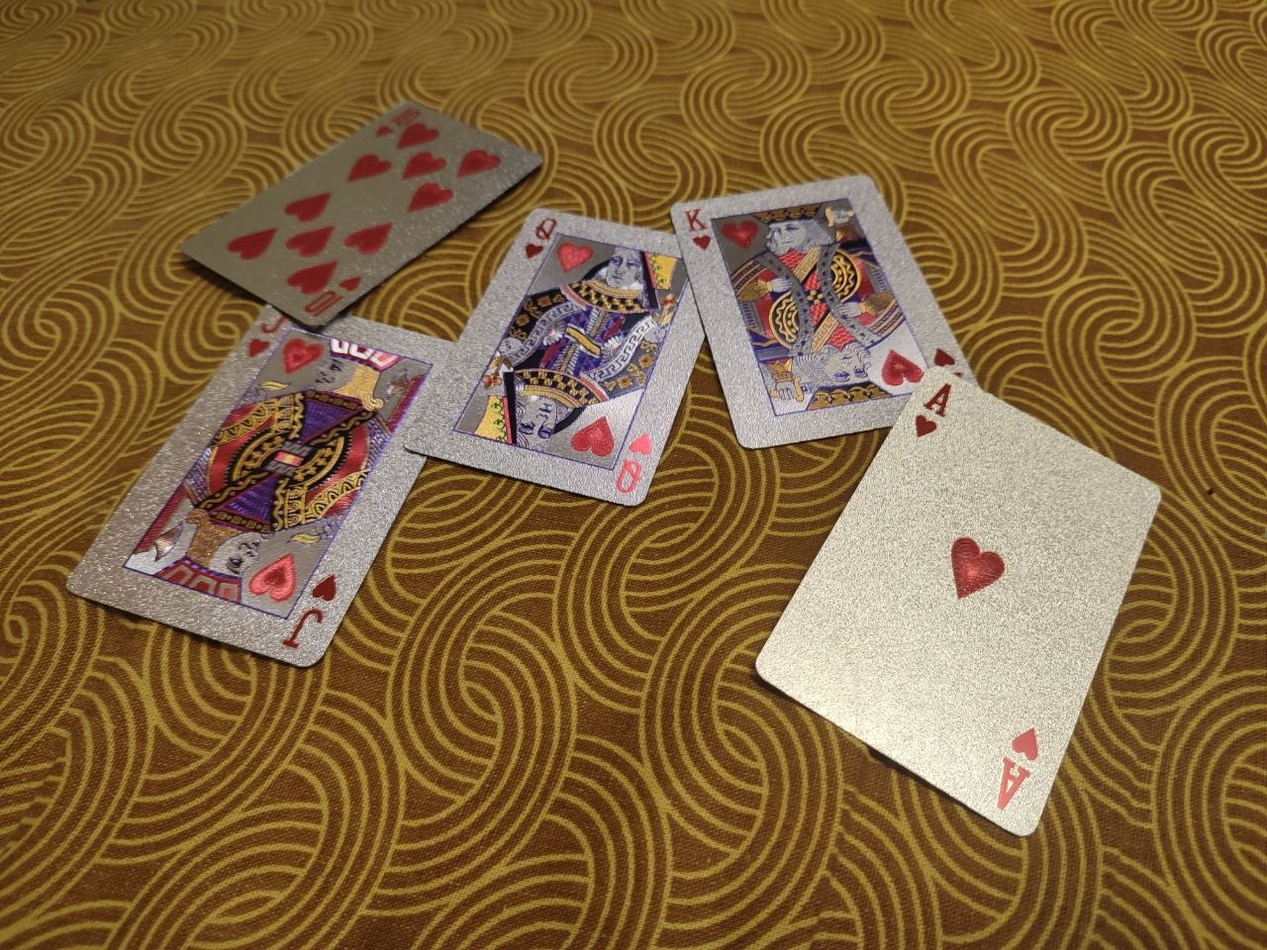10H: (184, 99, 539, 331)
AH: (755, 368, 1163, 836)
JH: (65, 300, 457, 667)
KH: (667, 170, 978, 451)
QH: (406, 208, 707, 510)
